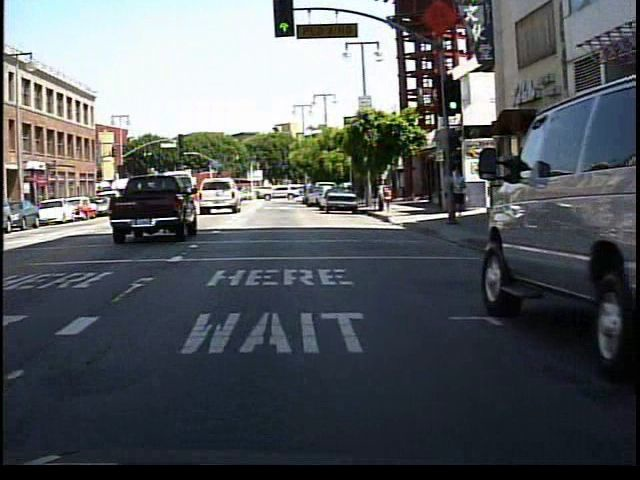person: (447, 161, 470, 222)
